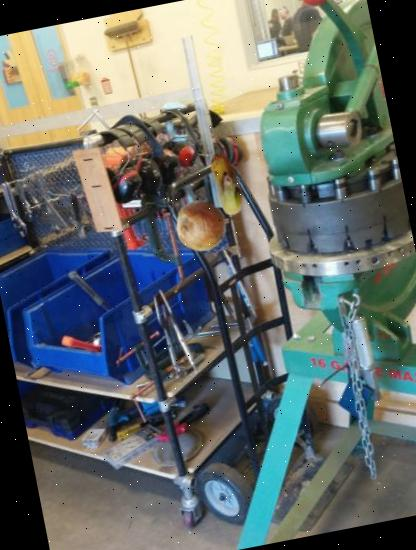Banana: (188, 146, 264, 222)
Onion: (169, 194, 232, 257)
